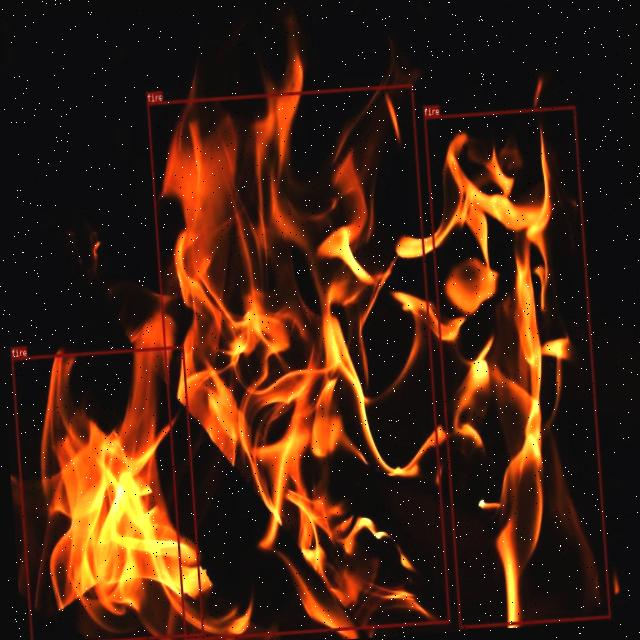fire: (146, 83, 450, 640), (423, 105, 610, 628), (10, 345, 203, 640)
